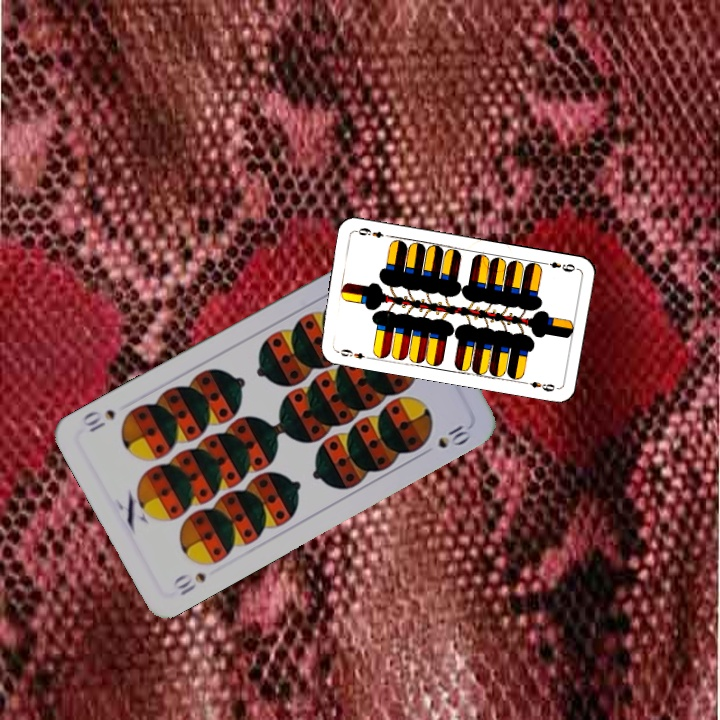E9: (333, 345, 373, 362), (539, 258, 579, 274)
S10: (169, 568, 209, 599)
